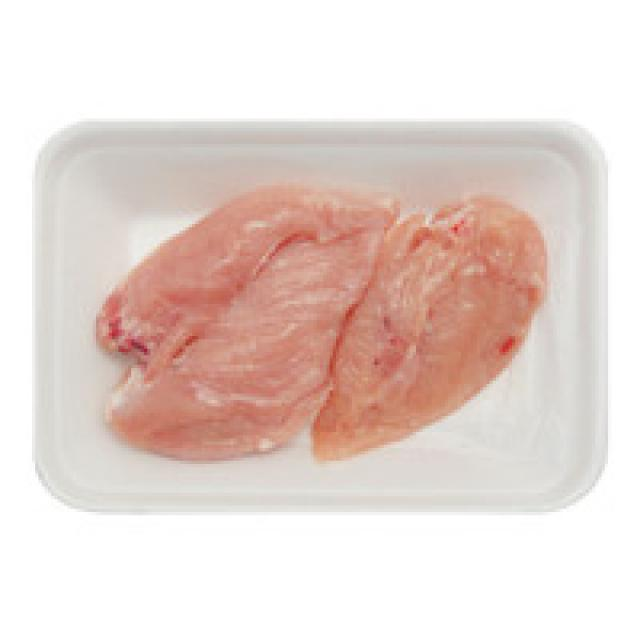chicken breast: (102, 189, 384, 466), (317, 208, 545, 459)
